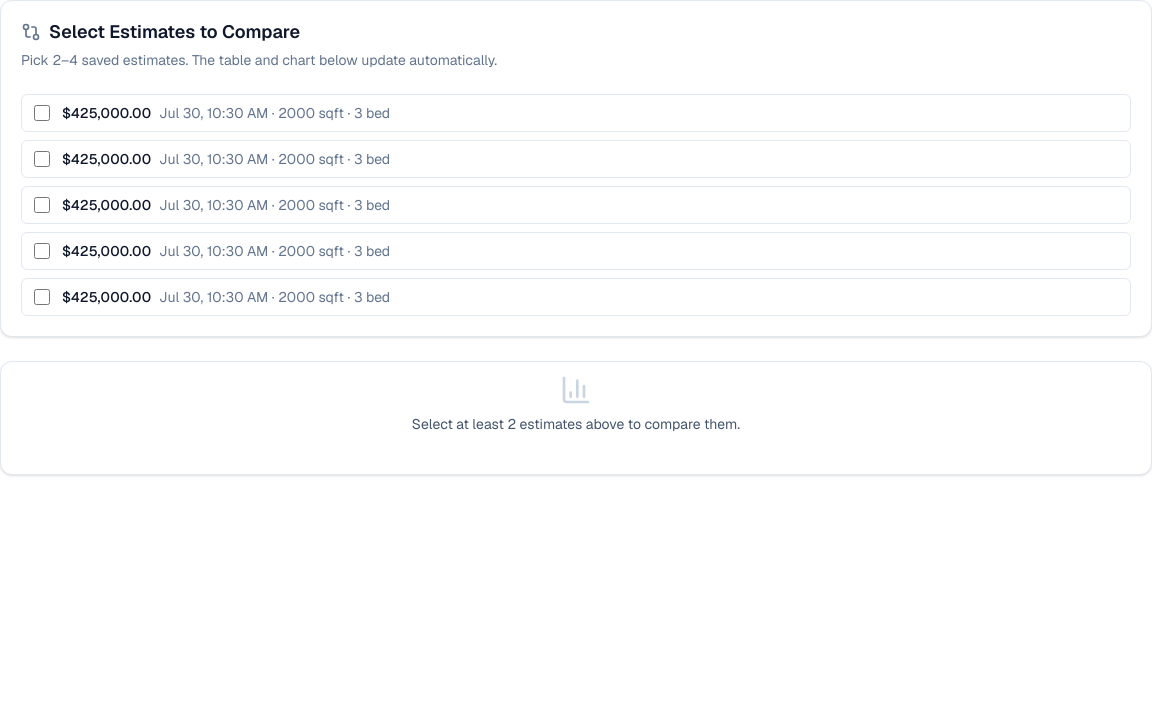
CompareClient › disables further checkboxes once 4 are selected
Click the 1st checkbox labelled "$425,000.00Jul 30, 10:30 AM · 2000 sqft · 3 bed".
click(42, 112)  # box [34, 104, 50, 120]
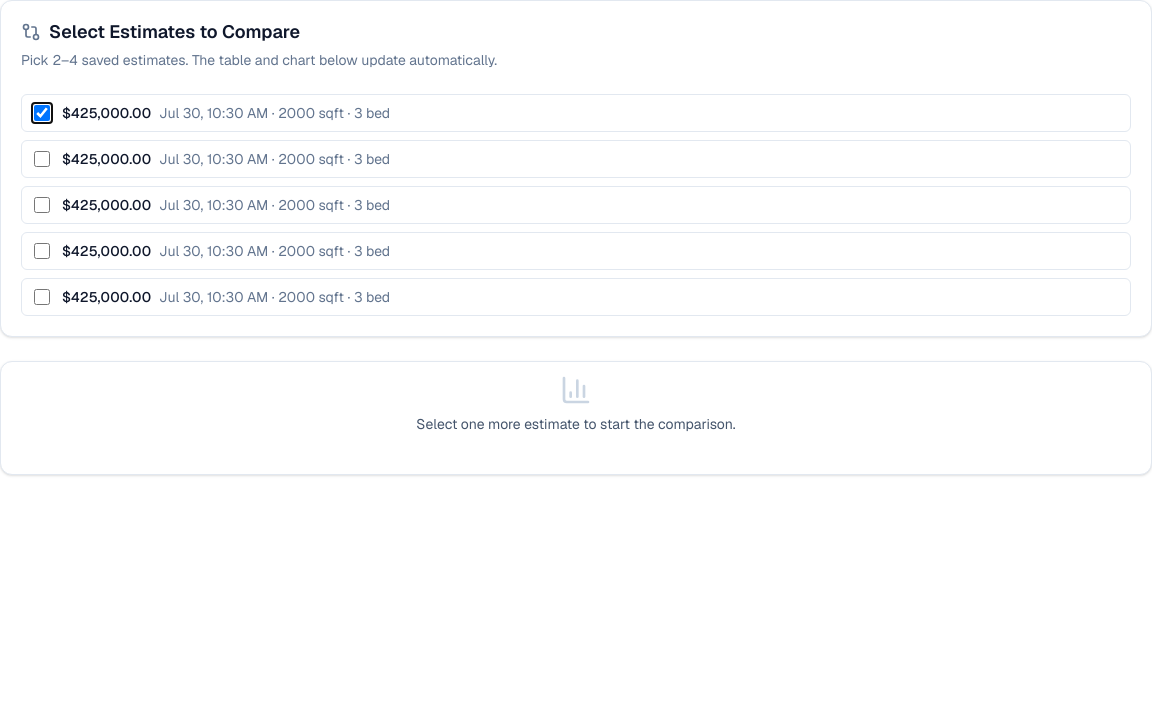
Click the 2nd checkbox labelled "$425,000.00Jul 30, 10:30 AM · 2000 sqft · 3 bed".
click(42, 158)  # box [34, 150, 50, 166]
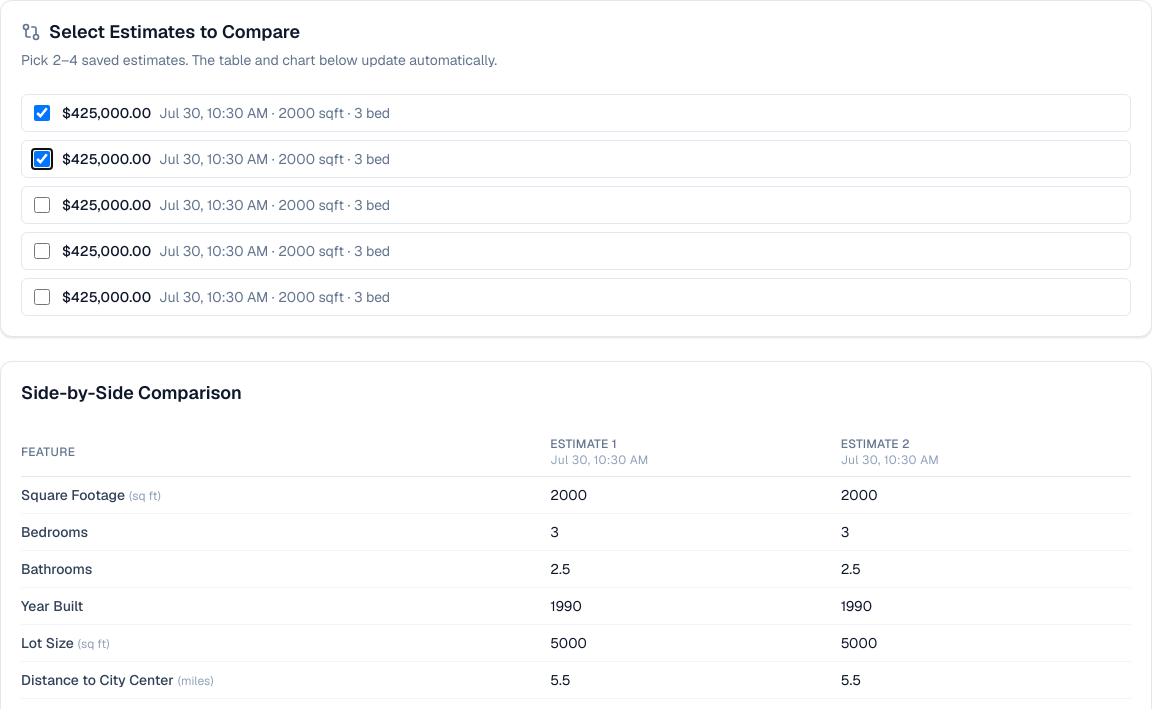
Click the 3rd checkbox labelled "$425,000.00Jul 30, 10:30 AM · 2000 sqft · 3 bed".
click(42, 204)  # box [34, 196, 50, 212]
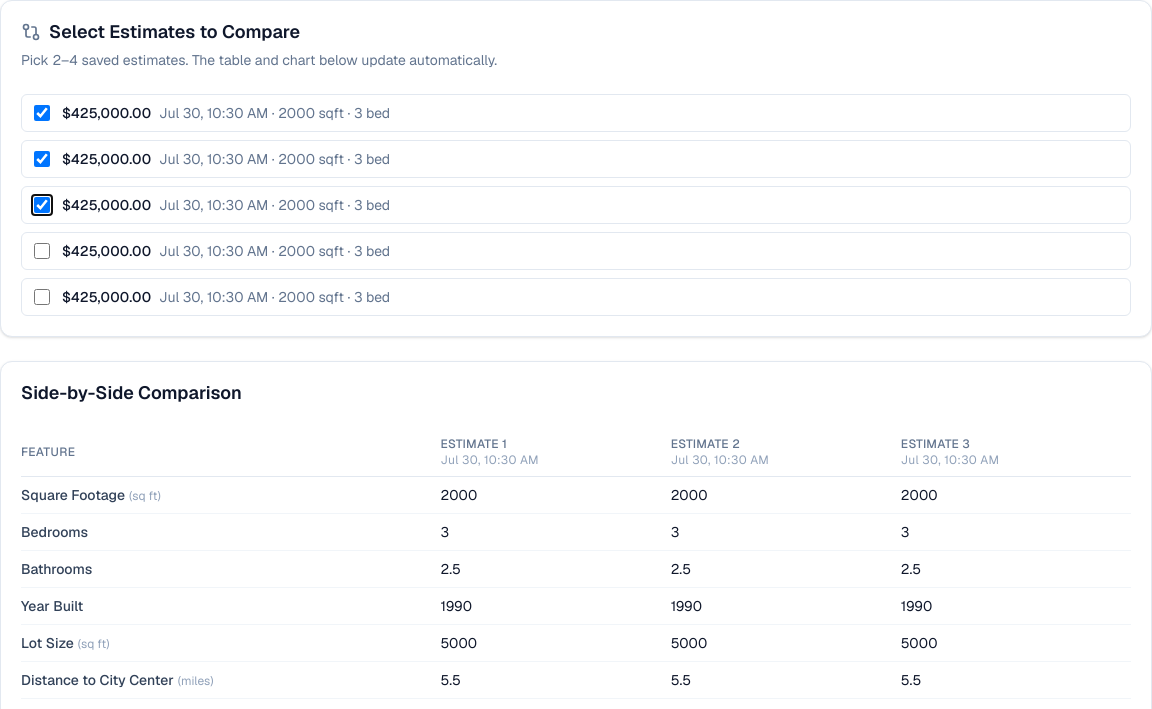
Click the 4th checkbox labelled "$425,000.00Jul 30, 10:30 AM · 2000 sqft · 3 bed".
click(42, 250)  # box [34, 242, 50, 258]
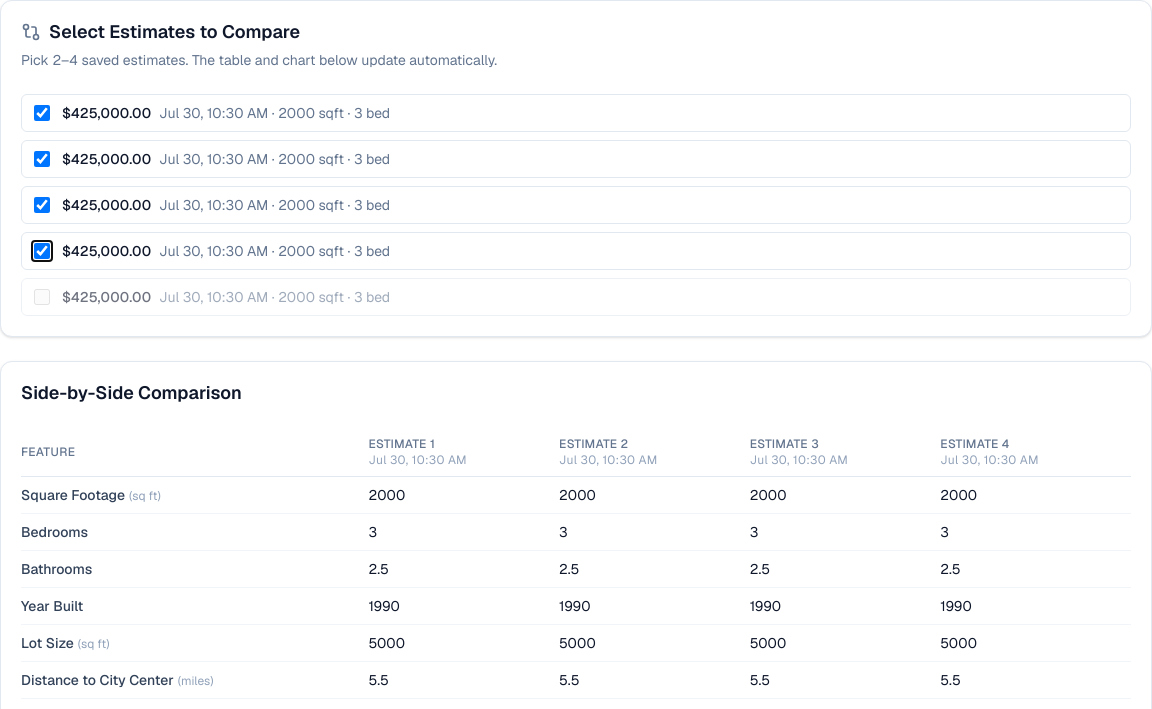
Expected: the 1st checkbox labelled "$425,000.00Jul 30, 10:30 AM · 2000 sqft · 3 bed" is enabled, [34, 104, 50, 120]
Expected: the 5th checkbox labelled "$425,000.00Jul 30, 10:30 AM · 2000 sqft · 3 bed" is disabled, [34, 288, 50, 304]
